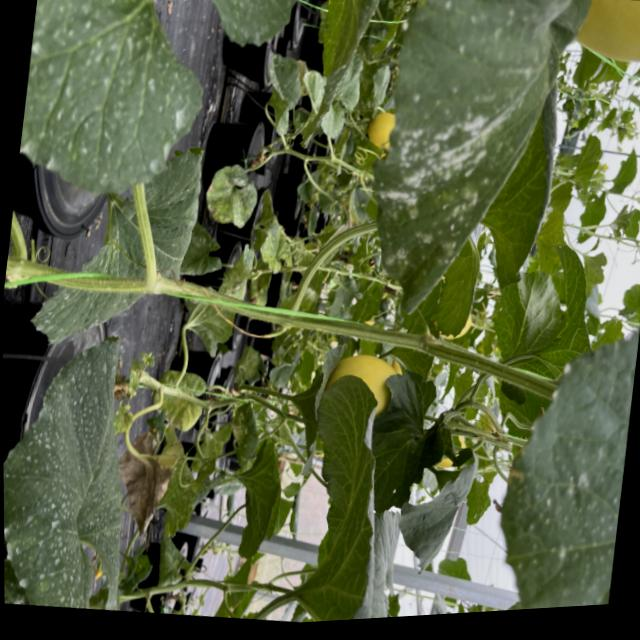downy mildew: (2, 316, 148, 616)
